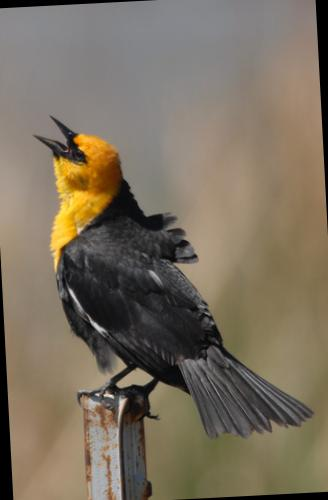bird: (10, 91, 319, 450)
